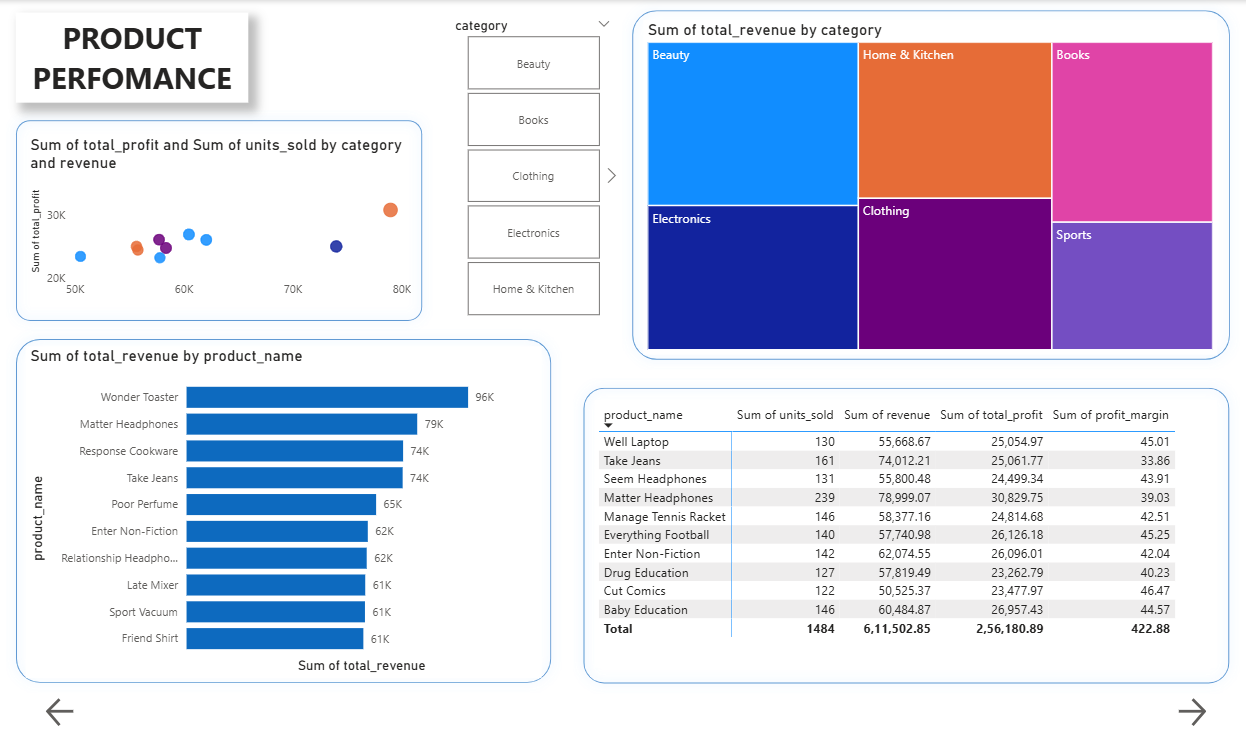

Layout of this report page (visuals, bound fields, positions):
{"tool":"powerbi","page":{"name":"PRODUCT PERFORMANCE","canvas":[1350,790],"ordinal":1},"visuals":[{"type":"shape","box":[15.2,353,596.5,391.1],"z":0},{"type":"shape","box":[675.6,0,663.4,397.2],"z":1000},{"type":"shape","box":[623.9,404.8,715.2,339.3],"z":2000},{"type":"clusteredBarChart","fields":{"Y":["Sum(query1.total_revenue)"],"Category":["query1.product_name"]},"box":[36.5,371.3,553.9,356.1],"z":3000},{"type":"treemap","fields":{"Group":["query4.category"],"Values":["Sum(query4.total_revenue)"]},"box":[698.4,21.3,616.3,359.1],"z":4000},{"type":"scatterChart","fields":{"X":["query8.revenue"],"Y":["Sum(query8.total_profit)"],"Size":["Sum(query8.units_sold)"],"Series":["query8.category"]},"box":[36.5,144.6,418.5,184.1],"z":5000},{"type":"pivotTable","fields":{"Rows":["query8.product_name"],"Values":["Sum(query8.units_sold)","Sum(query8.revenue)","Sum(query8.total_profit)","Sum(query8.profit_margin)"]},"box":[646.7,429.1,668,287.6],"z":6000},{"type":"shape","box":[15.2,118.7,458,237.4],"z":7000},{"type":"textbox","box":[26,13,249.6,96.7],"z":8000},{"type":"slicer","fields":{"Values":["query4.category"]},"box":[483.9,13.7,191.7,331.7],"z":9000},{"type":"actionButton","box":[1267.5,744.1,47.2,39.6],"z":10000},{"type":"actionButton","box":[53.3,744.1,47.2,39.6],"z":11000}]}

Visuals, with their boxes in screenshot pixels (x1, y1, x2, y2), scaled from the page's 1350x790 canvas onto the 1246x732 screenshot:
shape: [left=14, top=327, right=565, bottom=689]
shape: [left=624, top=0, right=1236, bottom=368]
shape: [left=576, top=375, right=1236, bottom=689]
clusteredBarChart - Sum(query1.total_revenue) x query1.product_name: [left=34, top=344, right=545, bottom=674]
treemap - query4.category x Sum(query4.total_revenue): [left=645, top=20, right=1213, bottom=352]
scatterChart - query8.revenue x Sum(query8.total_profit): [left=34, top=134, right=420, bottom=305]
pivotTable - query8.product_name x Sum(query8.units_sold): [left=597, top=398, right=1213, bottom=664]
shape: [left=14, top=110, right=437, bottom=330]
textbox: [left=24, top=12, right=254, bottom=102]
slicer - query4.category: [left=447, top=13, right=624, bottom=320]
actionButton: [left=1170, top=689, right=1213, bottom=726]
actionButton: [left=49, top=689, right=93, bottom=726]
